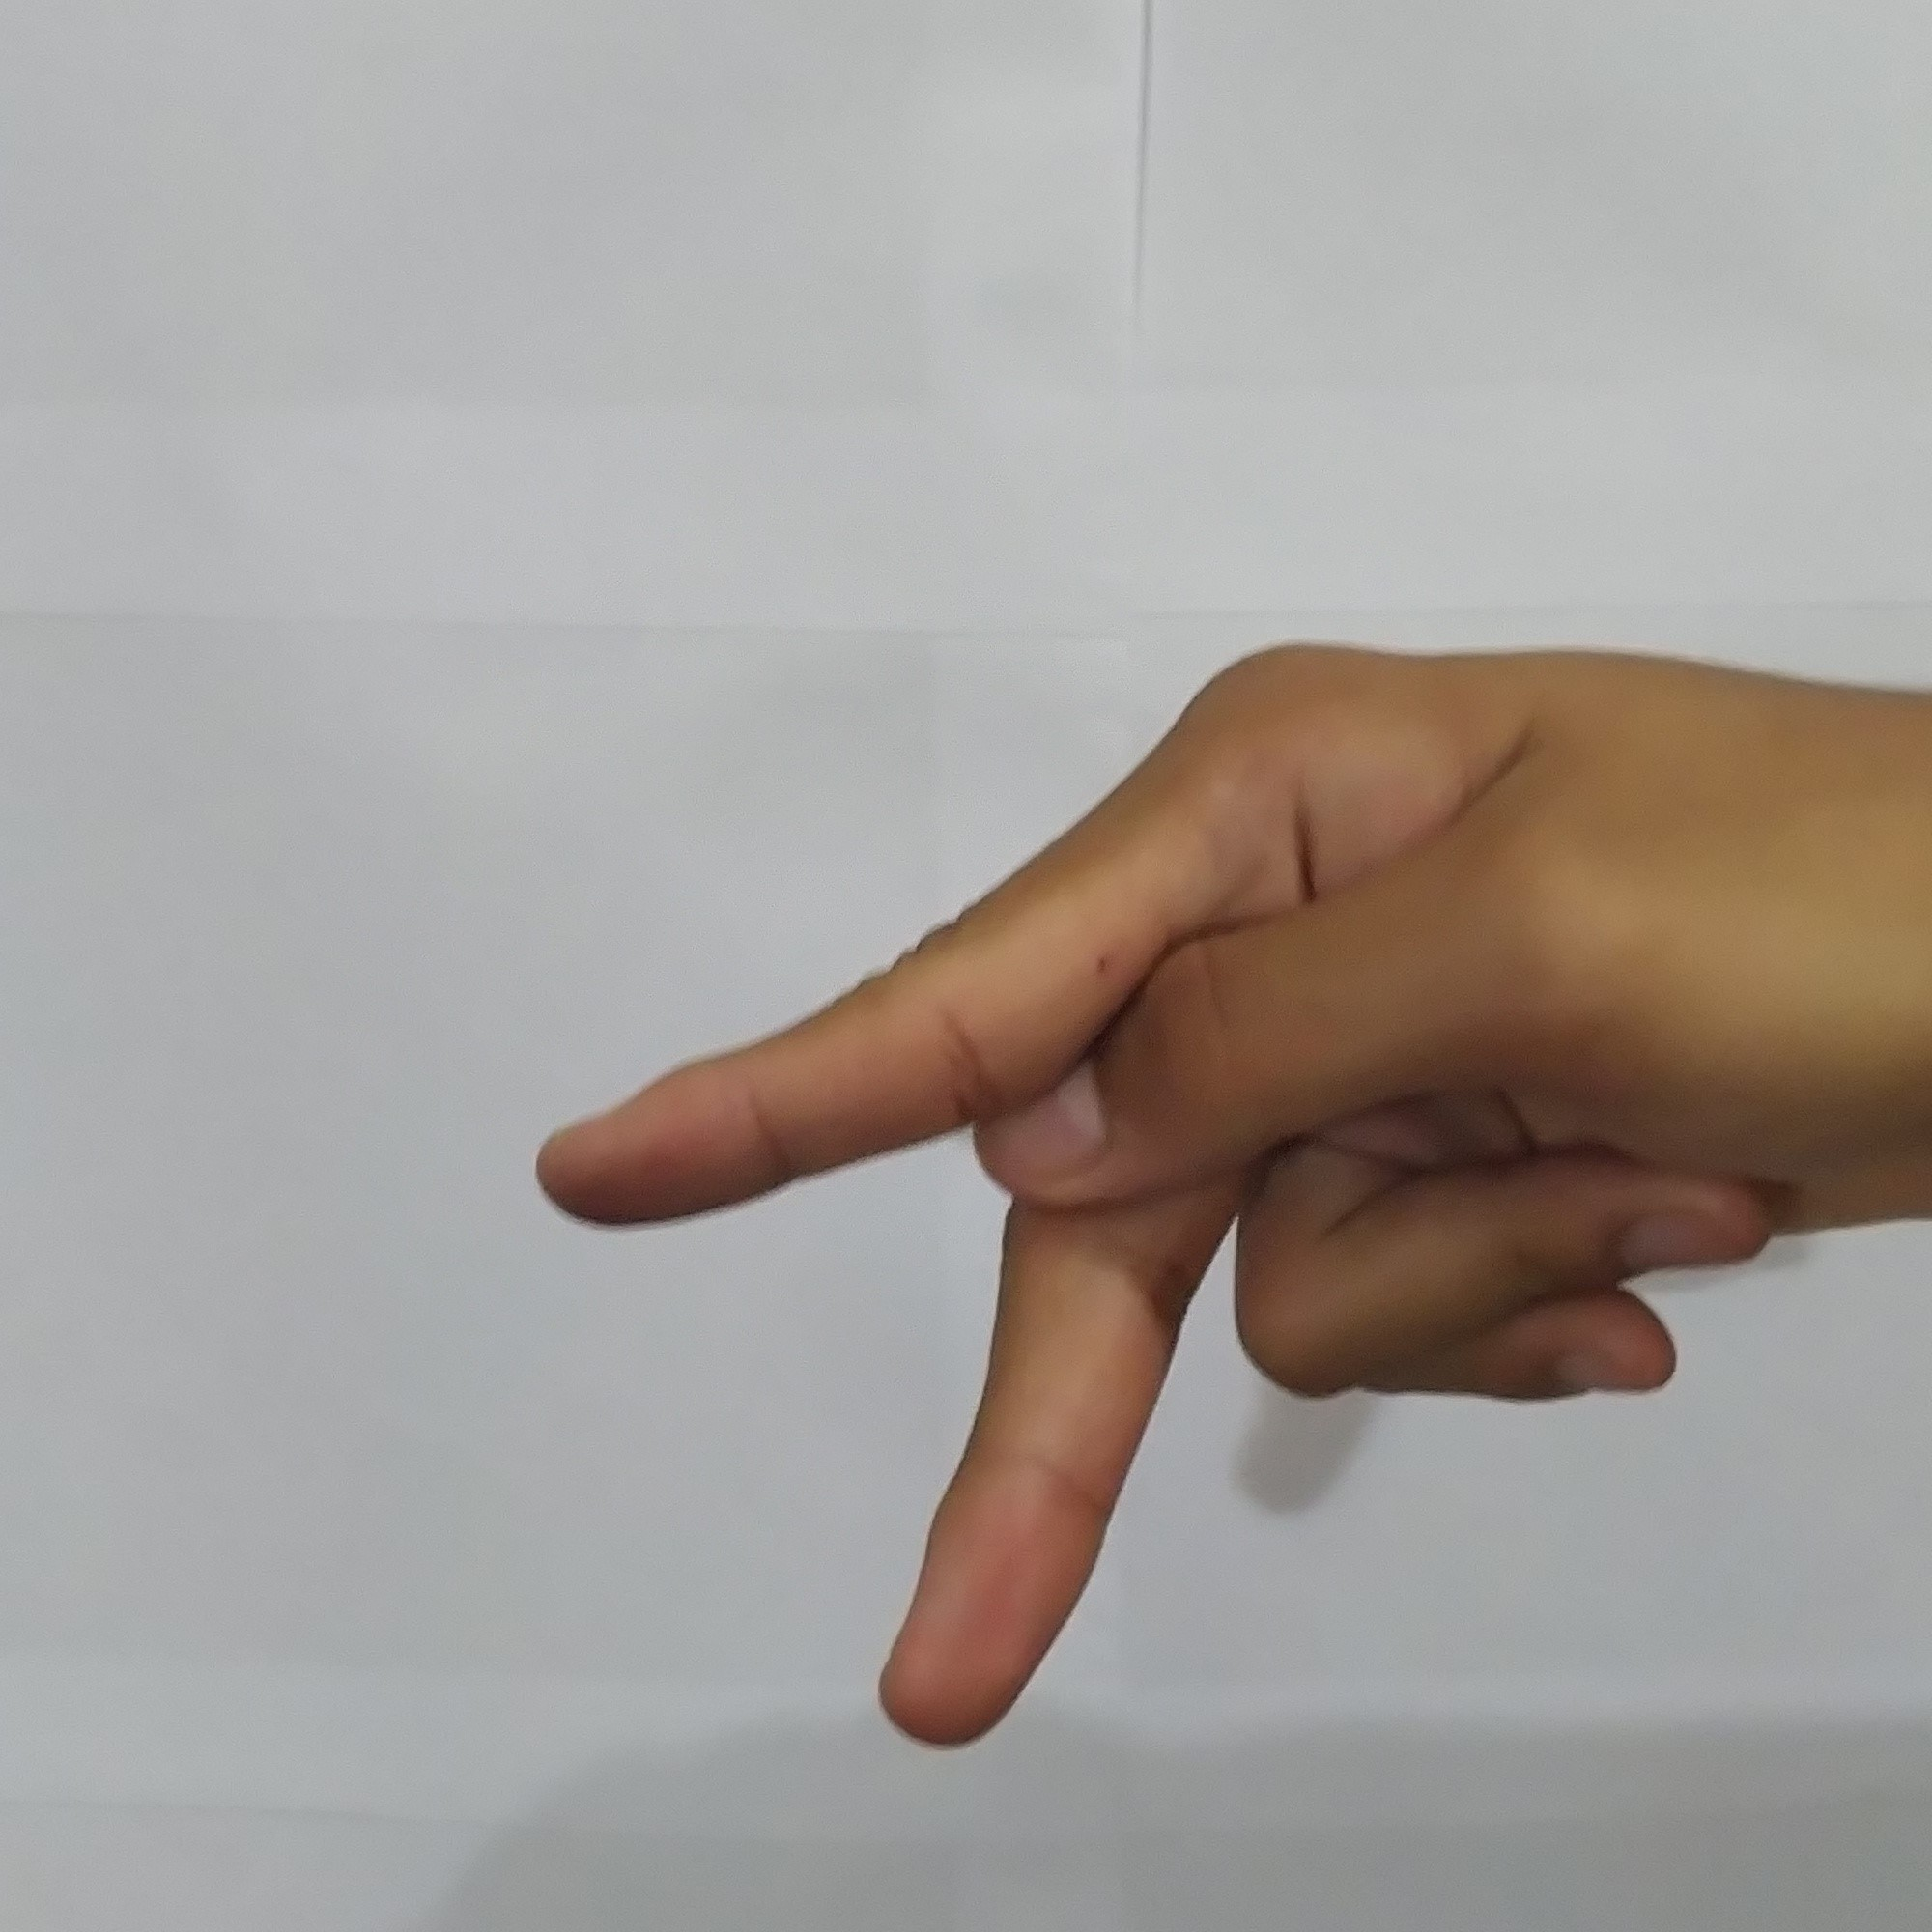P: (508, 600, 1882, 1776)
